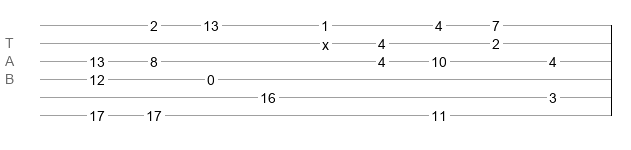0: (207, 72, 215, 82)
1: (321, 18, 329, 28)
10: (431, 54, 447, 64)
11: (431, 108, 447, 118)
12: (89, 72, 105, 82)
13: (89, 54, 105, 64), (203, 18, 219, 28)
16: (260, 90, 276, 100)
17: (89, 108, 105, 118), (146, 108, 162, 118)
2: (150, 18, 158, 28), (492, 36, 500, 46)
3: (549, 90, 557, 100)
4: (378, 36, 386, 46), (378, 54, 386, 64), (435, 18, 443, 28), (549, 54, 557, 64)
7: (492, 18, 500, 28)
8: (150, 54, 158, 64)
x: (322, 37, 329, 45)
